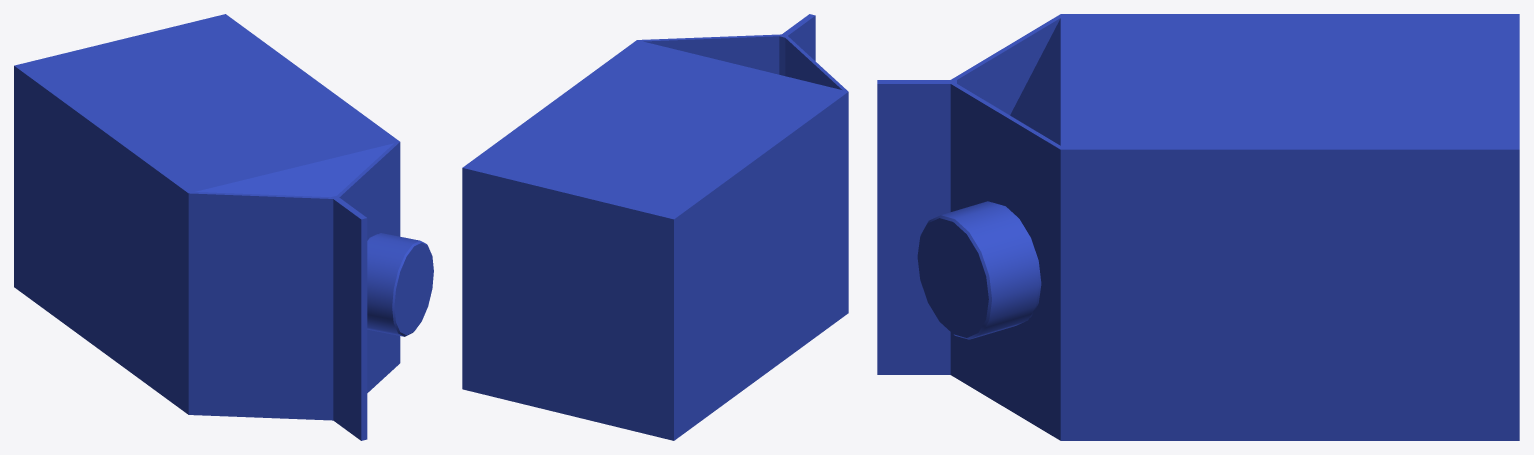
3 views of the same model, side by side, from view 1: azimuth 30°, elevation 25°; view 2: azimuth 150°, elevation 25°; view 3: azimuth 270°, elevation 25° (orthographic). The views are drawn at different scales.
Bounding box in the file's own units: 0.5159 × 0.5 × 1.
